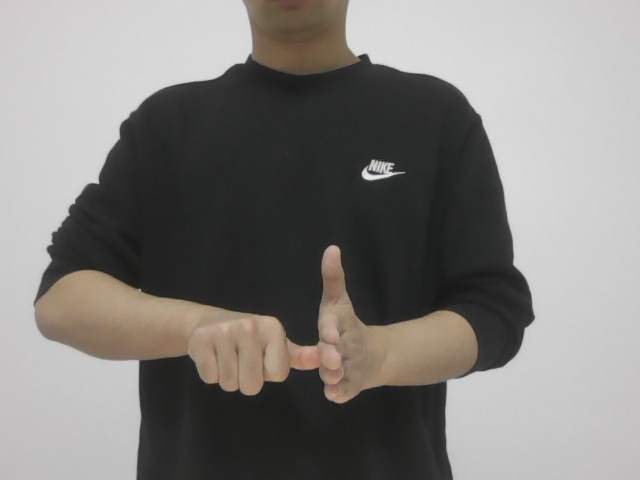time: (180, 240, 404, 415)
